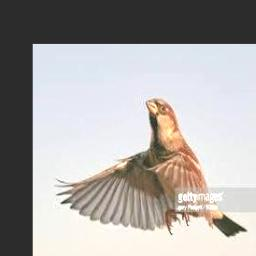Sparrow: (54, 98, 247, 238)
